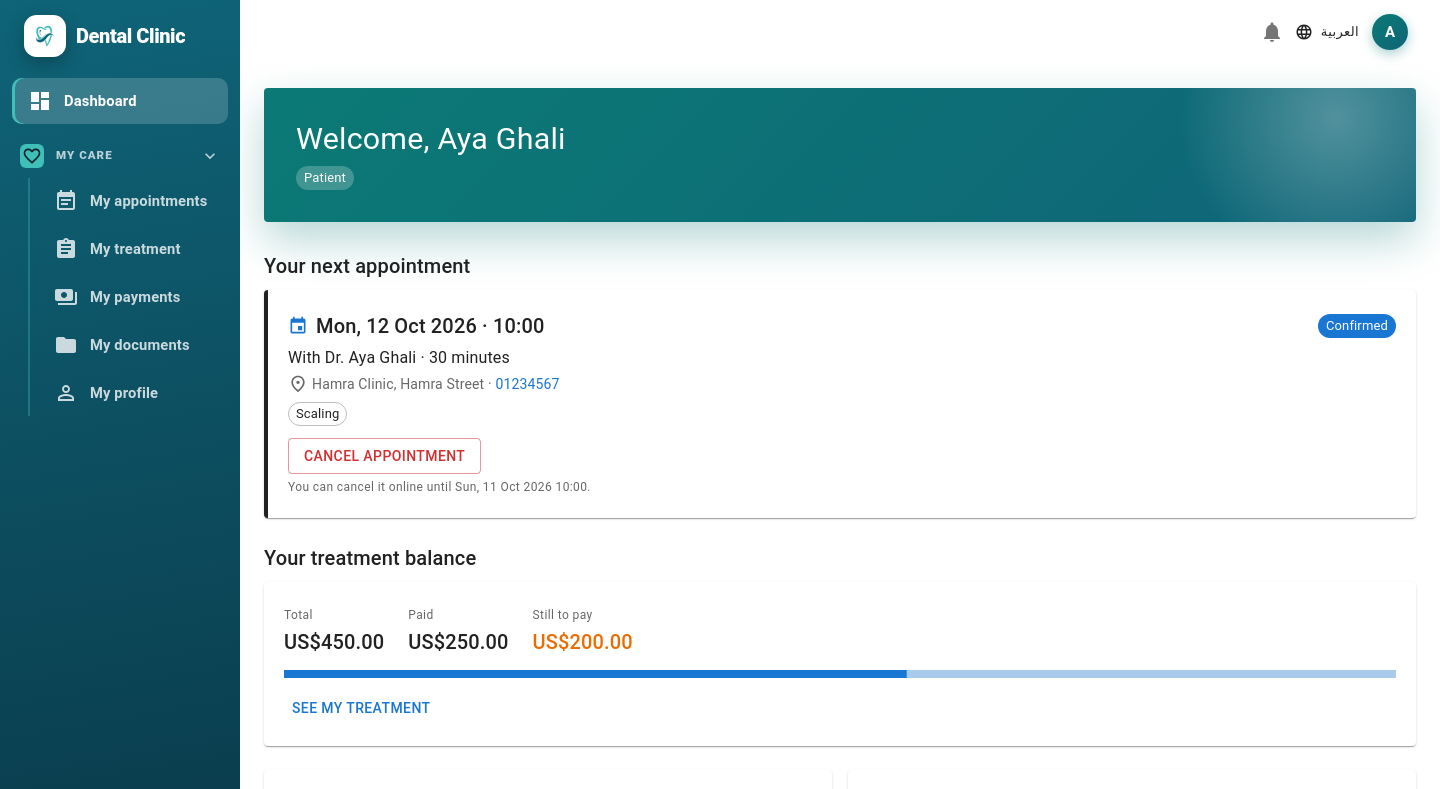
Test: the patient’s home › shows the server’s refusal when cancelling is no longer allowed
Step 1. Click the button "Cancel appointment" → click(385, 456), box [288,438,481,474]
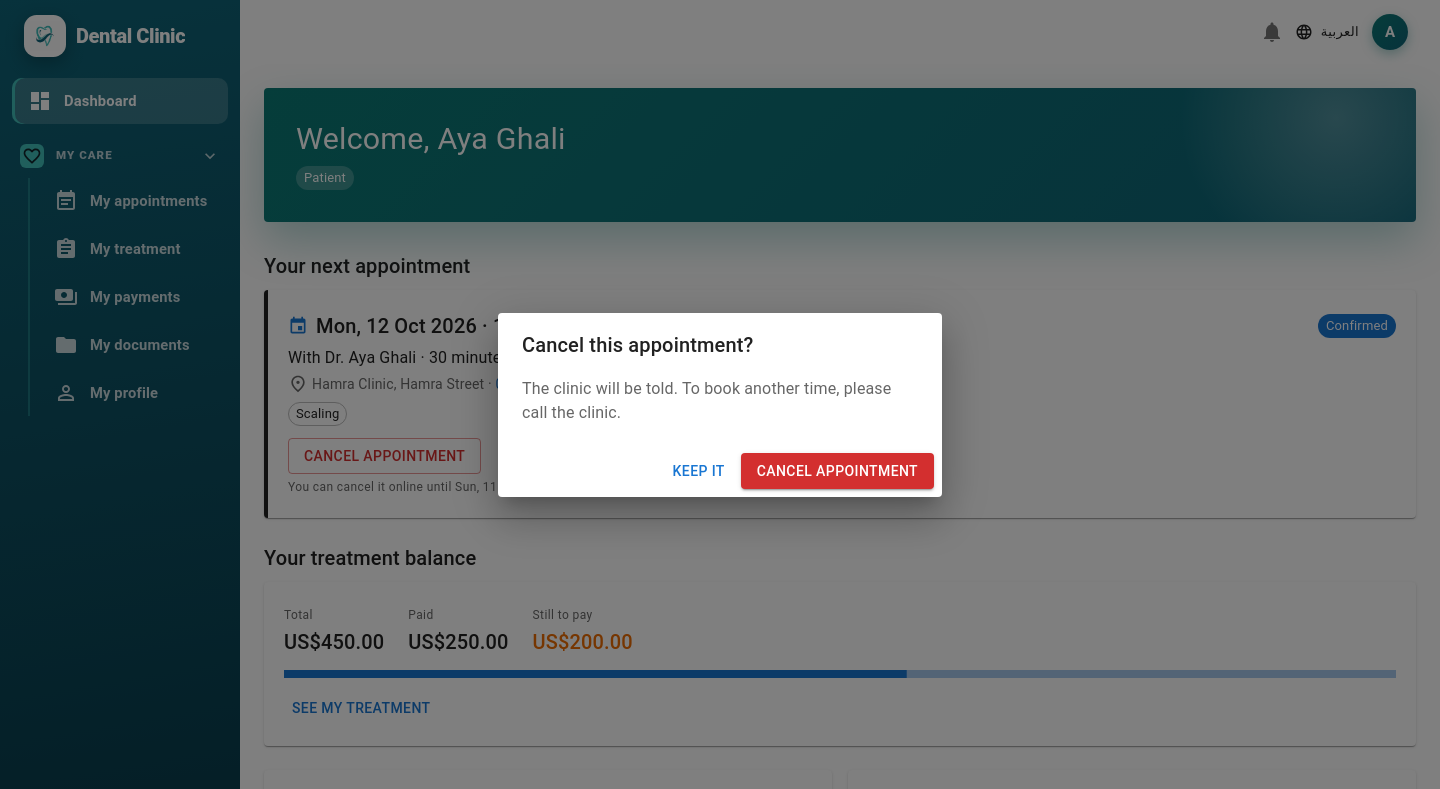
Step 2. Click the button "Cancel appointment" → click(837, 471), box [741,453,934,489]
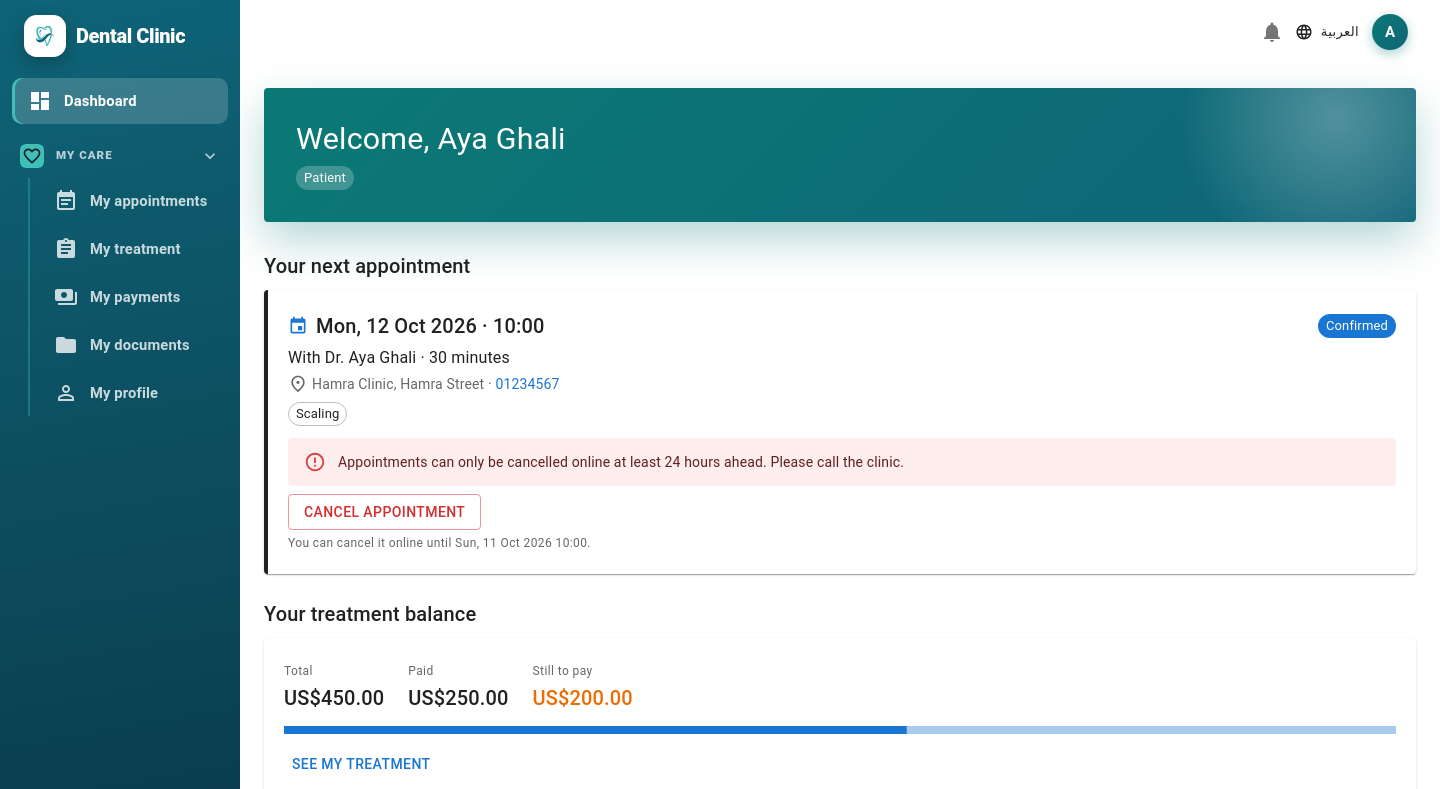
Expected: the message shows "at least 24 hours ahead", [338,454,904,470]
